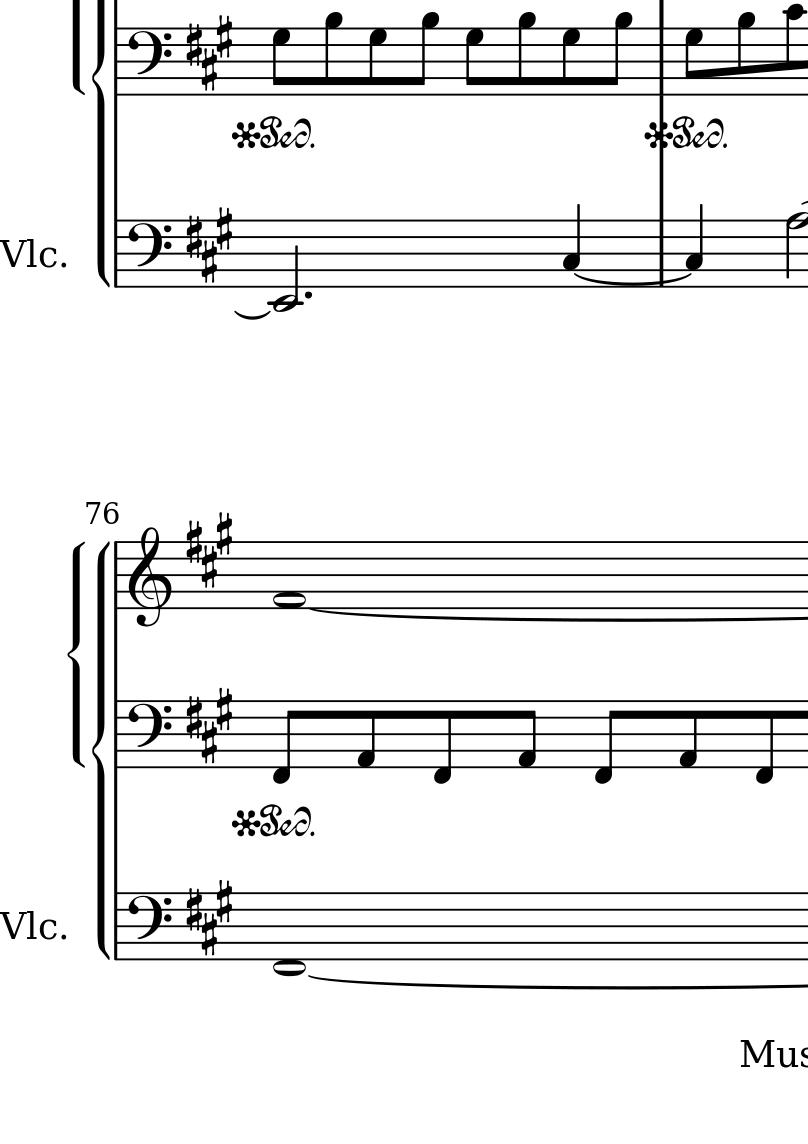1_-1: (273, 890, 307, 978)
1_1: (272, 540, 308, 612)
2_-2: (273, 218, 300, 313)
2_8: (784, 210, 808, 291)
4_3: (684, 200, 706, 289), (561, 202, 581, 289)
6: (101, 498, 121, 527)
7: (85, 499, 101, 526)
8_-1: (592, 699, 622, 785), (271, 699, 298, 785), (431, 698, 452, 785), (754, 699, 775, 785)
8_1: (355, 699, 376, 770), (516, 698, 537, 769), (678, 699, 699, 770)
8_10: (784, 4, 808, 97)
8_7: (268, 26, 292, 99), (558, 26, 582, 97), (464, 27, 486, 97), (367, 26, 388, 97), (684, 26, 703, 99)
8_9: (413, 11, 441, 97), (607, 11, 634, 96), (515, 11, 537, 98), (321, 11, 343, 96), (736, 12, 756, 98)
A_S: (183, 205, 234, 285), (183, 12, 234, 90), (184, 513, 236, 586), (186, 879, 233, 959), (183, 689, 232, 763)
Brace: (66, 539, 89, 770)
Bracke: (91, 539, 113, 959)
Fclef: (127, 891, 176, 962), (127, 218, 174, 291), (127, 700, 174, 770), (127, 27, 172, 98)
Gclef: (128, 527, 173, 628)
Single_barline: (652, 27, 672, 95), (652, 221, 671, 288), (109, 893, 126, 961), (110, 542, 127, 609), (110, 27, 126, 97), (110, 699, 126, 768), (110, 220, 126, 287)
Slur: (575, 273, 695, 285), (237, 309, 270, 322)
Vlc: (3, 233, 59, 277), (1, 906, 55, 951)
dot: (303, 288, 315, 304)
